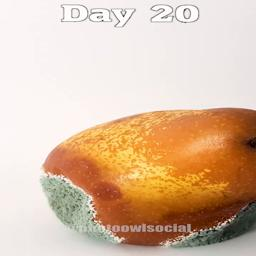Pear Rotten: (34, 104, 256, 250)
